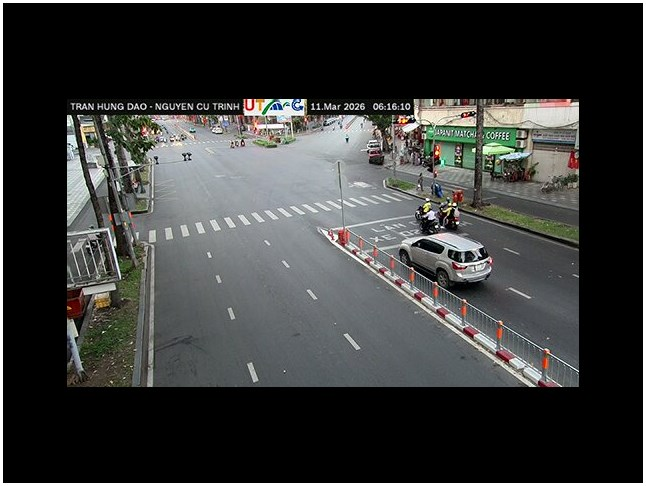car: (397, 231, 493, 288), (368, 142, 384, 166)
motorbike: (416, 198, 461, 234), (415, 200, 447, 235), (442, 203, 462, 231)
